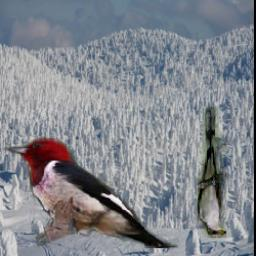Cuckoo: (198, 108, 226, 239)
Woodpecker: (0, 136, 179, 248)
